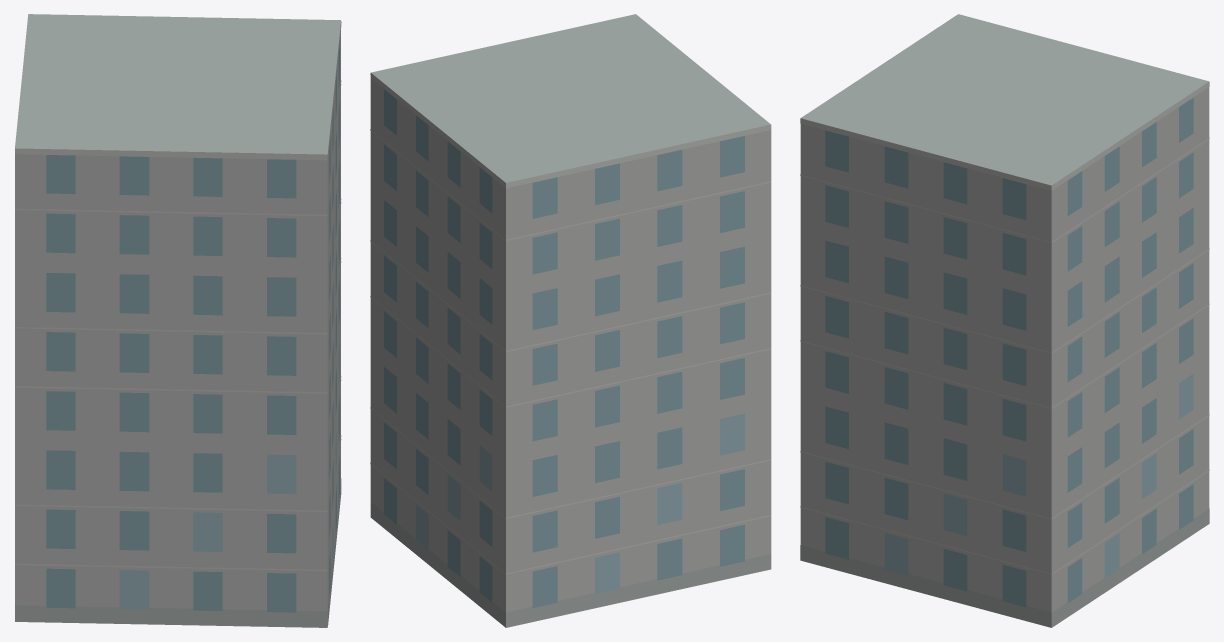
Rendered from survey-upis-32934902.glb.
3 renders of one model, left to right at view 1: azimuth 30°, elevation 25°; view 2: azimuth 150°, elevation 25°; view 3: azimuth 270°, elevation 25°, orthographic. The views are drawn at different scales.
Visible parts, largest first — view 1: survey-upis-32934902.tmp; view 2: survey-upis-32934902.tmp; view 3: survey-upis-32934902.tmp.
Part boxes in pixels (x1,y1,x2,y2): survey-upis-32934902.tmp: (15, 14, 341, 627); survey-upis-32934902.tmp: (370, 14, 771, 627); survey-upis-32934902.tmp: (800, 14, 1209, 627).
Bounding box in the file's own units: 16.41 × 19.7 × 16.53.
